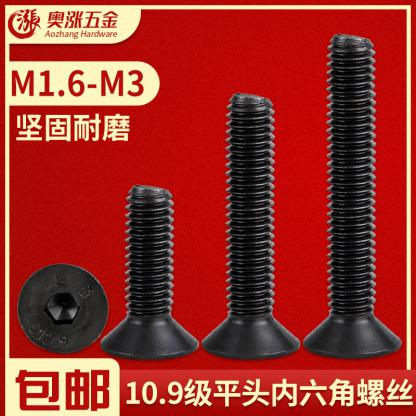FOD: (301, 34, 404, 360), (198, 89, 302, 360), (98, 182, 200, 359), (16, 260, 110, 356)
